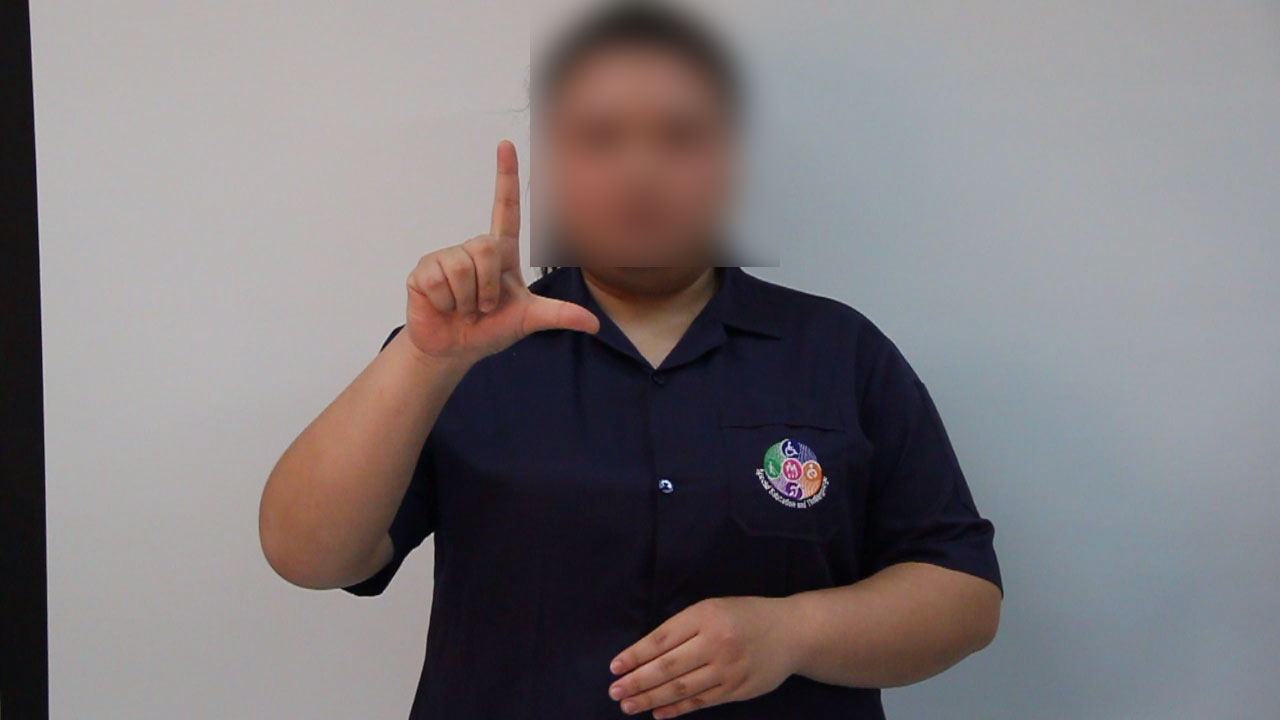lor: (375, 102, 636, 403)
